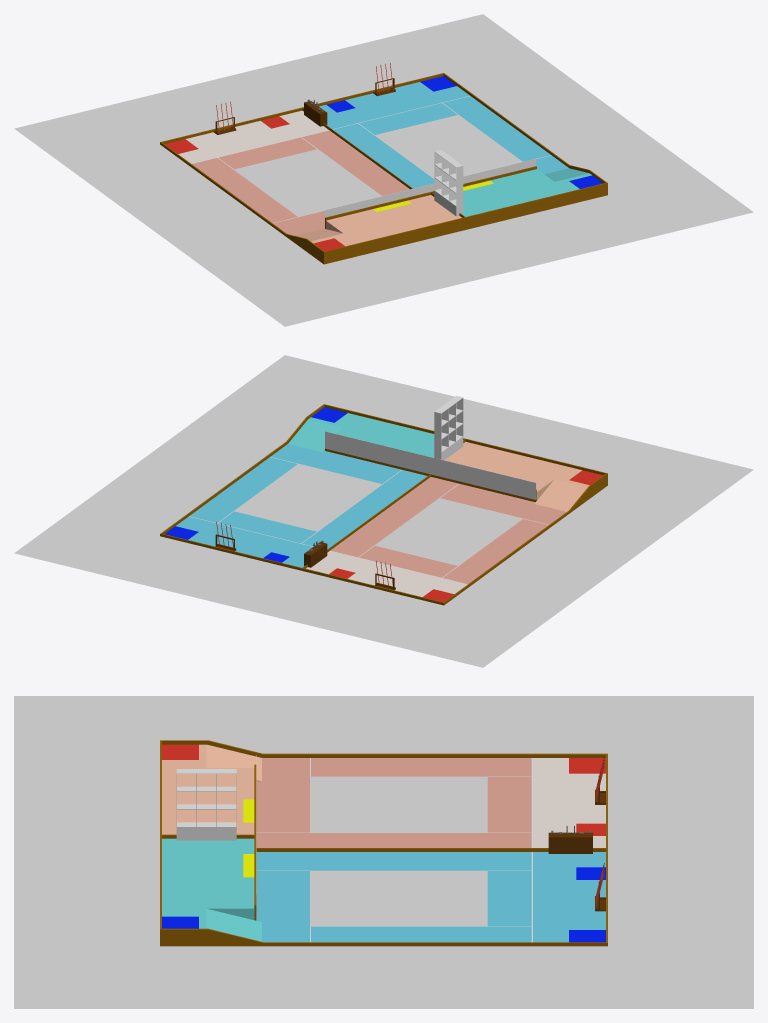
File: robocon2026map_without_foreset_new.dae
3 views of the same model, one above another, from view 1: azimuth 30°, elevation 25°; view 2: azimuth 150°, elevation 25°; view 3: azimuth 270°, elevation 25° (orthographic). The views are drawn at different scales.
Parts seen in each view (by area): view 1: 平面.005, 主地图, 平面.006, 区域三放置架, 主地图.002, 2-3区围栏; view 2: 平面.005, 主地图, 平面.006, 主地图.002, 区域三放置架, 2-3区围栏; view 3: 平面.005, 主地图, 平面.006, 区域三放置架, 立方体, 2-3区围栏.
Part boxes in pixels (x1,y1,x2,y2): 平面.005: [14, 14, 753, 326]; 主地图: [165, 76, 602, 251]; 平面.006: [160, 73, 607, 264]; 区域三放置架: [434, 149, 463, 216]; 主地图.002: [325, 158, 536, 217]; 2-3区围栏: [325, 166, 536, 228]; 平面.005: [14, 355, 753, 667]; 主地图: [165, 407, 602, 602]; 平面.006: [160, 404, 607, 605]; 主地图.002: [325, 431, 536, 499]; 区域三放置架: [434, 396, 463, 460]; 2-3区围栏: [325, 439, 536, 502]; 平面.005: [14, 696, 753, 1008]; 主地图: [162, 744, 605, 942]; 平面.006: [160, 740, 607, 946]; 区域三放置架: [176, 769, 236, 840]; 立方体: [548, 832, 592, 853]; 2-3区围栏: [162, 764, 256, 920].
Bounding box in the file's own units: 20 × 20 × 2.42.
